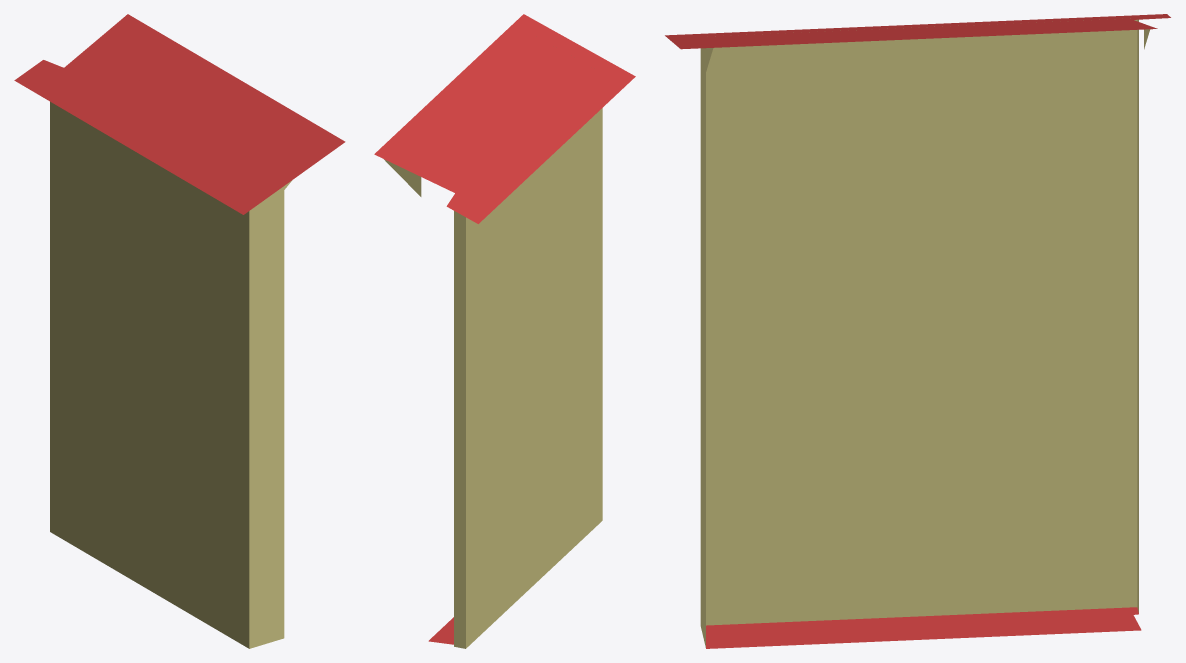
3 views of the same model, side by side, from view 1: azimuth 30°, elevation 25°; view 2: azimuth 150°, elevation 25°; view 3: azimuth 270°, elevation 25° (orthographic). The views are drawn at different scales.
Size of the model in its own units: 3.2 by 7.67 by 10.55.
